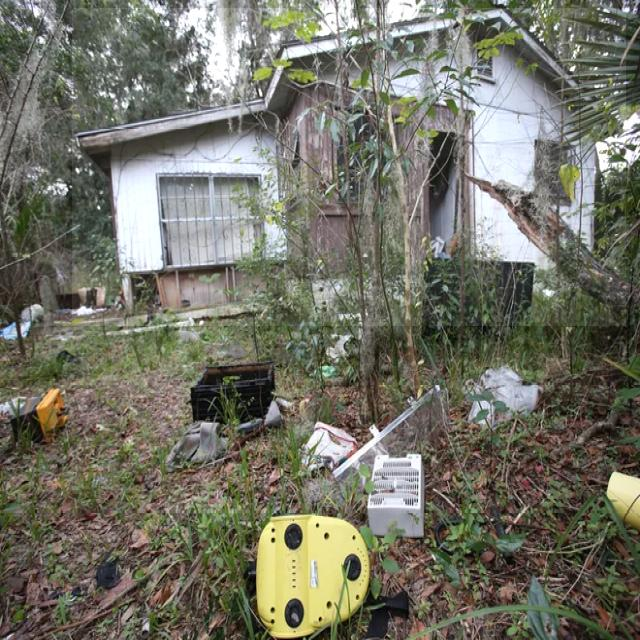House: (72, 8, 626, 326)
